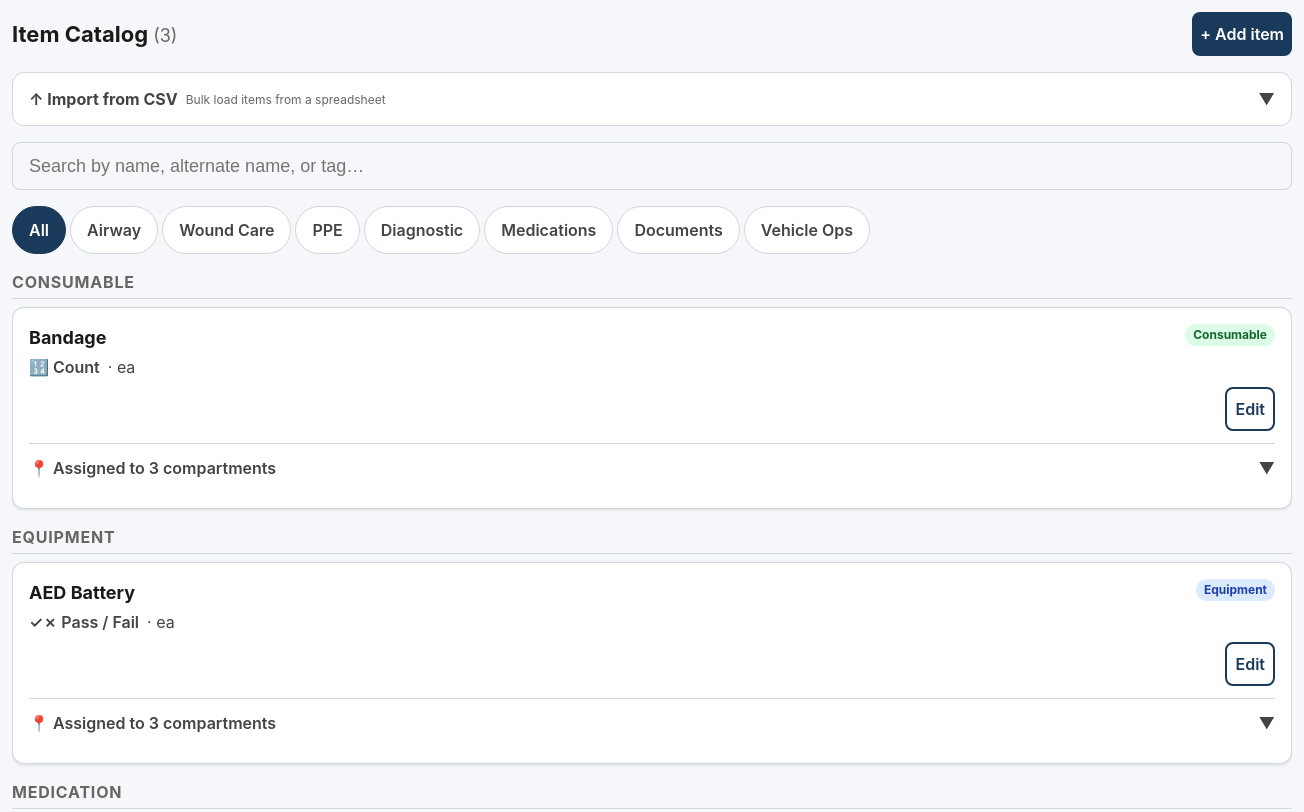
Scenario: ItemCatalog — search filters results › typing in search hides non-matching items
The width and height of the screenshot is (1304, 812).
Type "AED" into the search field named "search items".
click(652, 166); type("AED")  # box [12,142,1292,190]
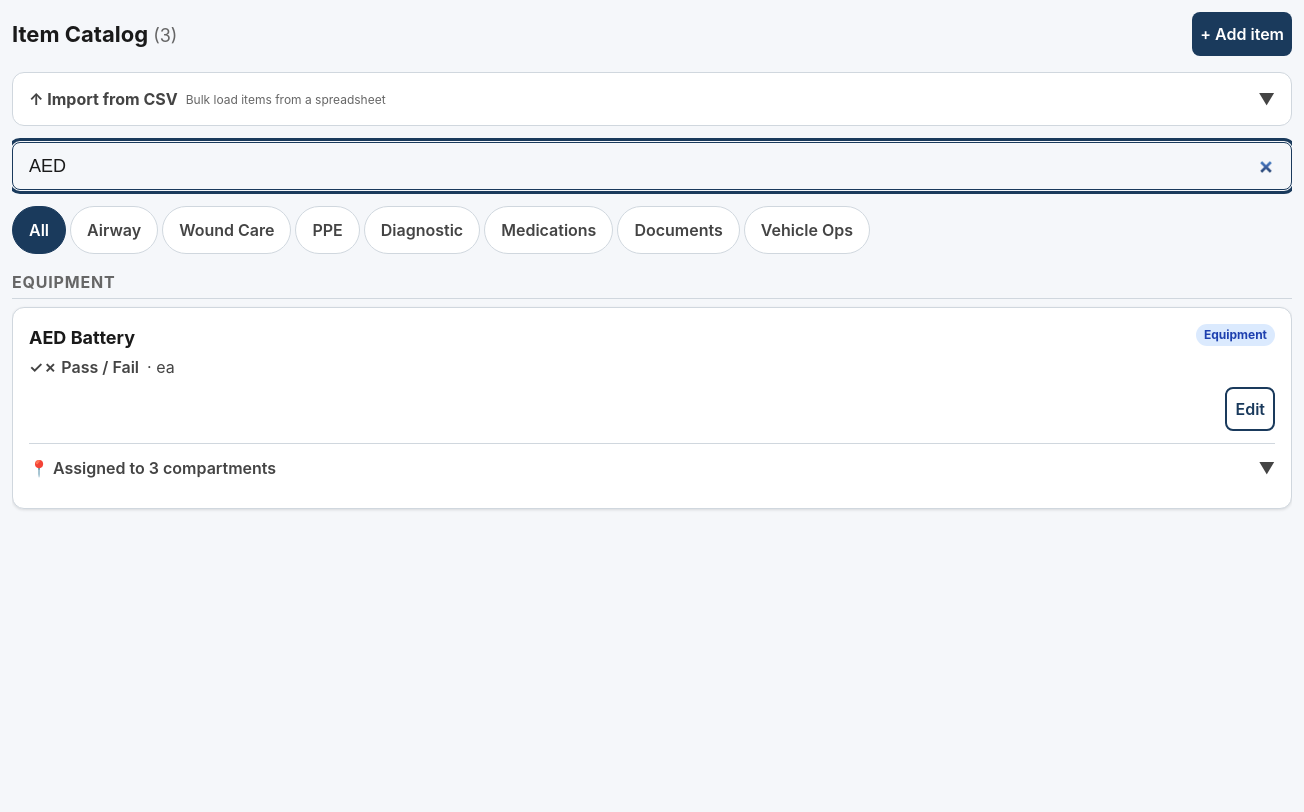
Expected: the text "AED Battery" is shown, [29,324,135,351]
Now the text "Bandage" is gone
